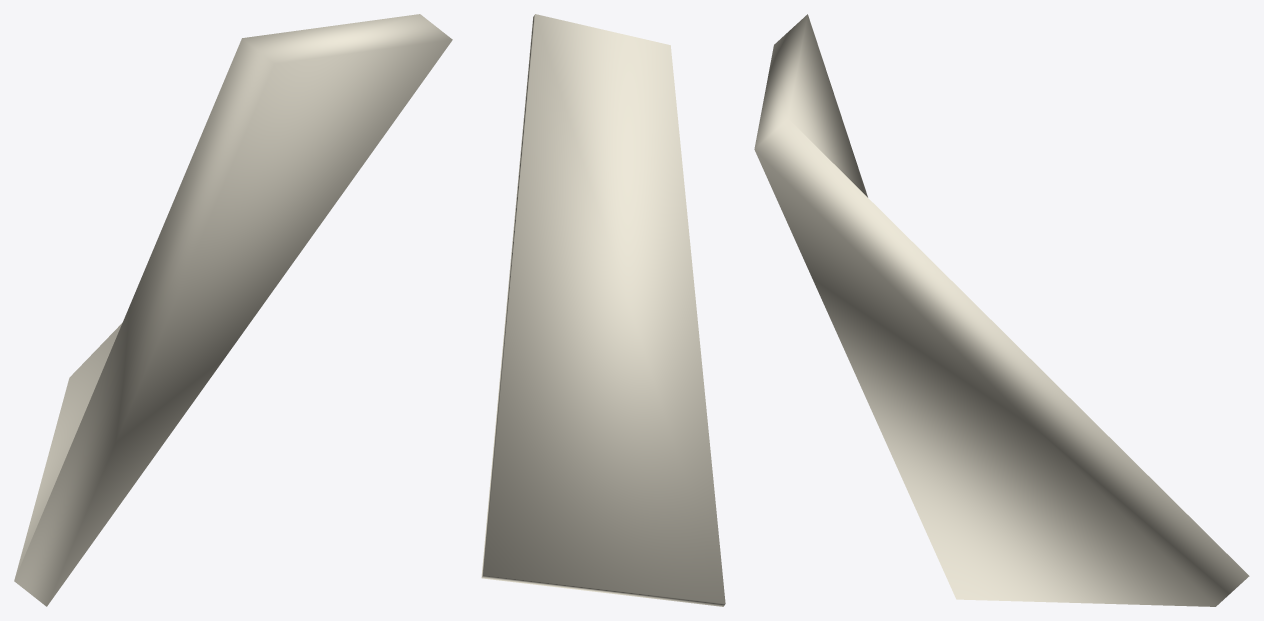
3 views of the same model, side by side, from view 1: azimuth 30°, elevation 25°; view 2: azimuth 150°, elevation 25°; view 3: azimuth 270°, elevation 25° (orthographic). The views are drawn at different scales.
Parts seen in each view (by area): view 1: ZA_eb77203a0b06dbff; view 2: ZA_eb77203a0b06dbff; view 3: ZA_eb77203a0b06dbff.
Boxes of the visible parts, bbox=[...] form: ZA_eb77203a0b06dbff: bbox=[14, 14, 452, 606]; ZA_eb77203a0b06dbff: bbox=[481, 14, 725, 606]; ZA_eb77203a0b06dbff: bbox=[754, 14, 1249, 606].
Bounding box in the file's own units: 0.00458 × 0.00769 × 0.00526.
